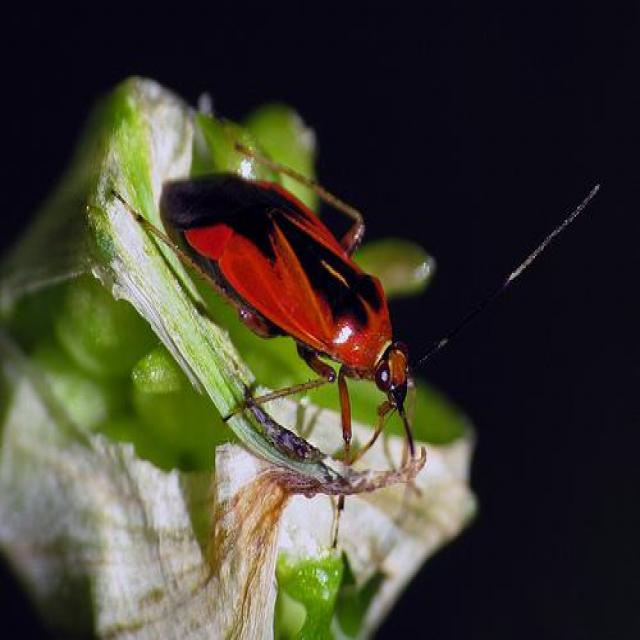Miridae-Adult-: (99, 128, 458, 458)
